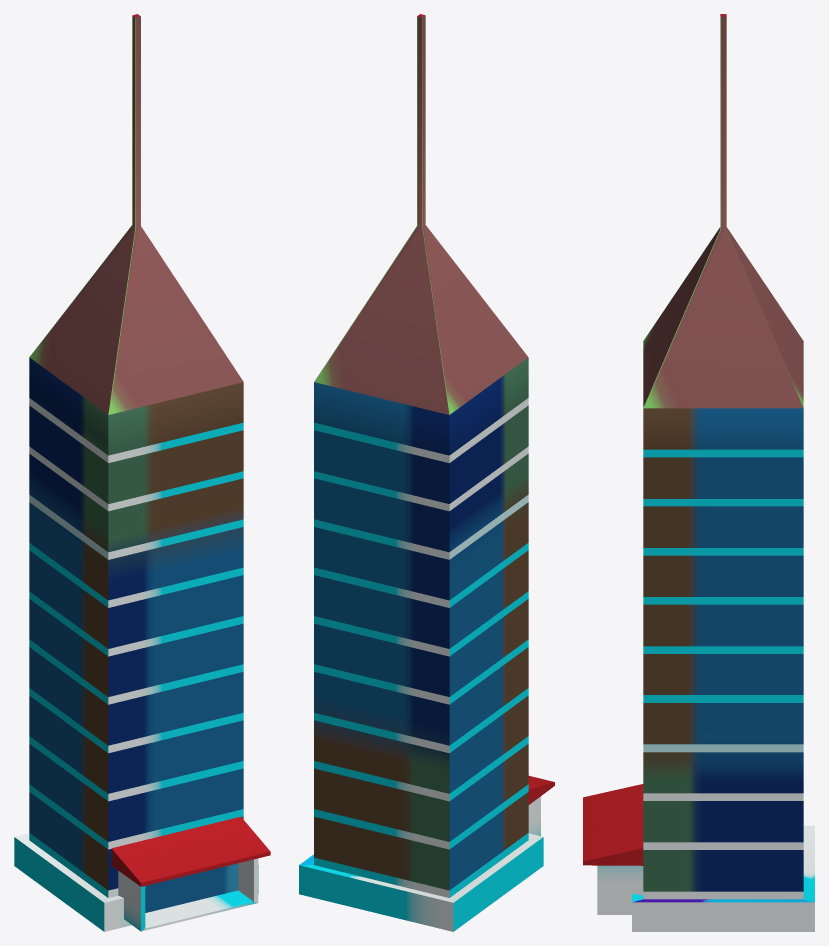
The model's file is Building6.fbx.
3 renders of one model, left to right at view 1: azimuth 30°, elevation 25°; view 2: azimuth 150°, elevation 25°; view 3: azimuth 270°, elevation 25°, orthographic.
Visible parts, largest first — view 1: Building6; view 2: Building6; view 3: Building6.
Part boxes in pixels (<box>): Building6: <box>14,14,270,931</box>; Building6: <box>299,14,554,931</box>; Building6: <box>583,14,814,931</box>.
Size of the model in its own units: 153 by 820 by 196.
